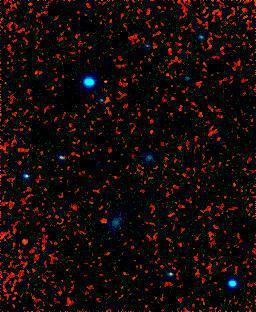star: (11, 228, 41, 258)
